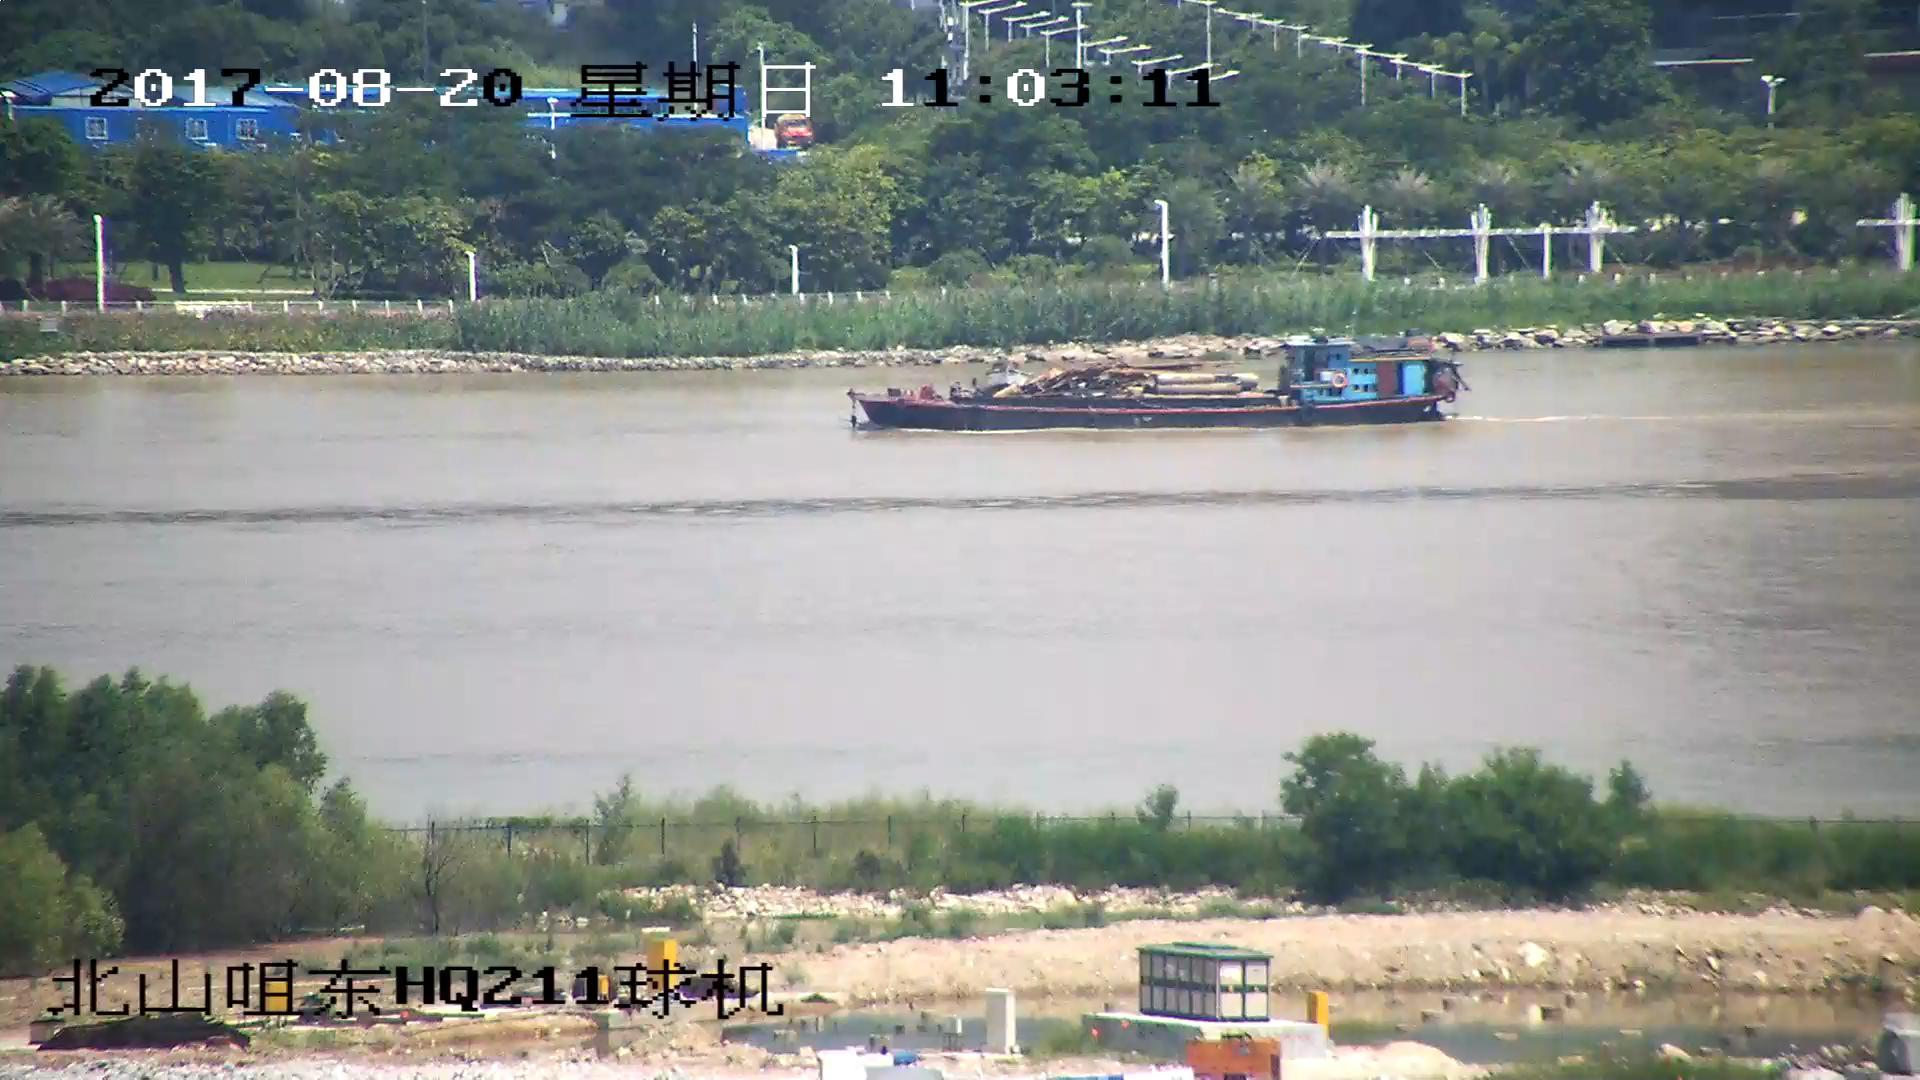Ship: (847, 344, 1465, 435)
